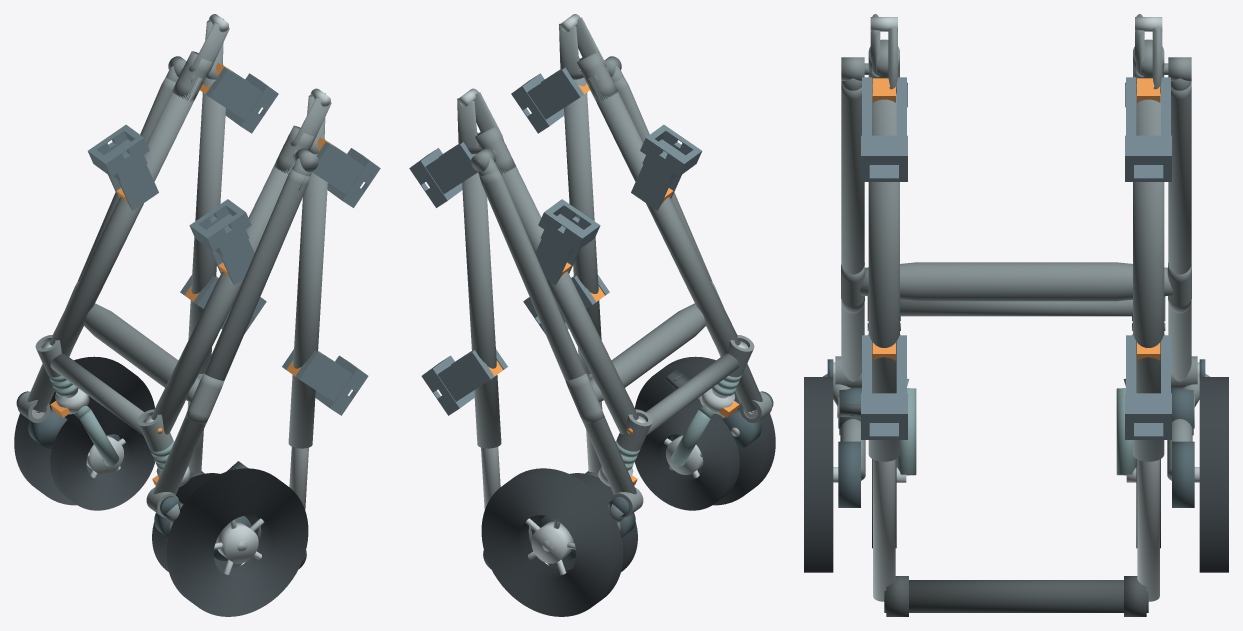
Rendered from w380_state3_wheel_S.glb.
The picture shows the model from 3 angles, left to right: view 1: azimuth 30°, elevation 25°; view 2: azimuth 150°, elevation 25°; view 3: azimuth 270°, elevation 25°; orthographic projection. The views are drawn at different scales.
Parts seen in each view (by area): view 1: RL_tire.013, V46_rear_leg_-1, FR_tire.013, main_upper_-1.001, main_lower_1.001, main_lower_-1.001, main_upper_1.001, RR_tire.013, Universal_Cabin_Receiver_L_1, V46_rearbar, Universal_Cabin_Receiver_L_-1, Universal_Cabin_Receiver_H_-1 (+18 smaller); view 2: RR_tire.013, V46_rear_leg_1, FL_tire.013, main_upper_1.001, main_lower_-1.001, main_lower_1.001, main_upper_-1.001, RL_tire.013, Universal_Cabin_Receiver_L_-1, V46_rearbar, Universal_Cabin_Receiver_L_1, Universal_Cabin_Receiver_H_1 (+20 smaller); view 3: V46_rearbar, main_upper_1.001, main_upper_-1.001, round_handle.012, RL_tire.013, RR_tire.013, V46_rear_leg_1, V46_rear_leg_-1, front_fixed_round_tube.012, Universal_Cabin_Receiver_M_1, Universal_Cabin_Receiver_M_-1, Universal_Cabin_Receiver_H_1 (+18 smaller).
Part boxes in pixels (box(x1,y1,x2,y2)): RL_tire.013: box(166, 468, 308, 616); V46_rear_leg_-1: box(153, 169, 310, 494); FR_tire.013: box(50, 401, 154, 510); main_upper_-1.001: box(288, 154, 327, 448); main_lower_1.001: box(49, 77, 201, 356); main_lower_-1.001: box(151, 162, 294, 434); main_upper_1.001: box(188, 77, 225, 373); RR_tire.013: box(14, 356, 154, 505); Universal_Cabin_Receiver_L_1: box(88, 124, 158, 210); V46_rearbar: box(84, 303, 200, 402); Universal_Cabin_Receiver_L_-1: box(189, 199, 254, 285); Universal_Cabin_Receiver_H_-1: box(282, 349, 368, 415); RR_tire.013: box(481, 468, 623, 616); V46_rear_leg_1: box(479, 169, 636, 494); FL_tire.013: box(635, 401, 739, 510); main_upper_1.001: box(462, 154, 501, 448); main_lower_-1.001: box(588, 77, 740, 356); main_lower_1.001: box(495, 162, 638, 434); main_upper_-1.001: box(564, 77, 601, 373); RL_tire.013: box(635, 356, 775, 505); Universal_Cabin_Receiver_L_-1: box(631, 124, 701, 210); V46_rearbar: box(589, 303, 705, 402); Universal_Cabin_Receiver_L_1: box(535, 199, 600, 285); Universal_Cabin_Receiver_H_1: box(421, 349, 507, 415); V46_rearbar: box(859, 262, 1173, 301); main_upper_1.001: box(1133, 93, 1164, 461); main_upper_-1.001: box(868, 93, 899, 461); round_handle.012: box(884, 580, 1148, 612); RL_tire.013: box(804, 377, 833, 572); RR_tire.013: box(1199, 377, 1228, 572); V46_rear_leg_1: box(1168, 82, 1191, 381); V46_rear_leg_-1: box(841, 82, 864, 381); front_fixed_round_tube.012: box(900, 299, 1132, 316); Universal_Cabin_Receiver_M_1: box(1125, 77, 1171, 181); Universal_Cabin_Receiver_M_-1: box(861, 77, 907, 181); Universal_Cabin_Receiver_H_1: box(1125, 335, 1171, 439).
Size of the model in its own units: 0.3574 by 0.6926 by 0.434.
